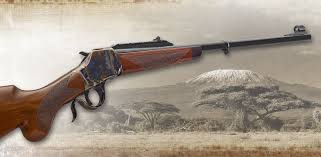gun: (0, 23, 312, 143)
